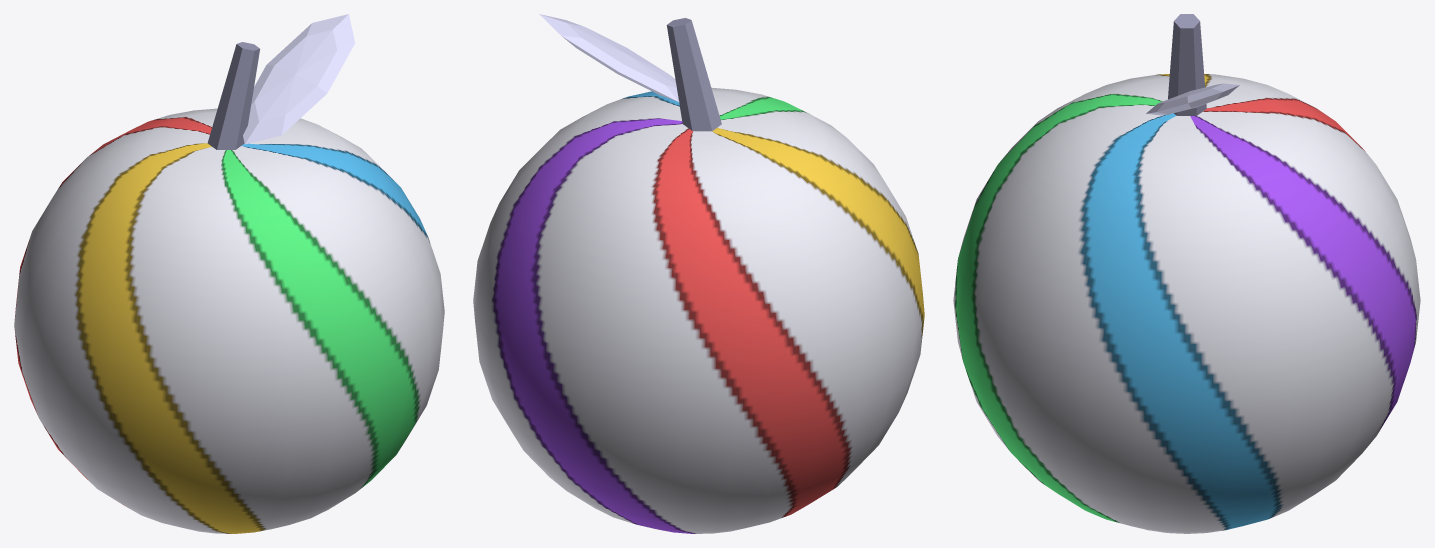
The model's file is Fruit_Prism.fbx.
3 views of the same model, side by side, from view 1: azimuth 30°, elevation 25°; view 2: azimuth 150°, elevation 25°; view 3: azimuth 270°, elevation 25° (orthographic). The views are drawn at different scales.
Visible parts, largest first — view 1: Fruit_Prism; view 2: Fruit_Prism; view 3: Fruit_Prism.
Part boxes in pixels (x1=…): Fruit_Prism: x1=14, y1=14, x2=444, y2=533; Fruit_Prism: x1=473, y1=14, x2=924, y2=533; Fruit_Prism: x1=953, y1=14, x2=1420, y2=533.
Bounding box in the file's own units: 1.6 × 1.9 × 1.6.
Materials: 1 (1 with a texture image).
